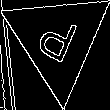P_SW: (33, 9, 83, 71)
